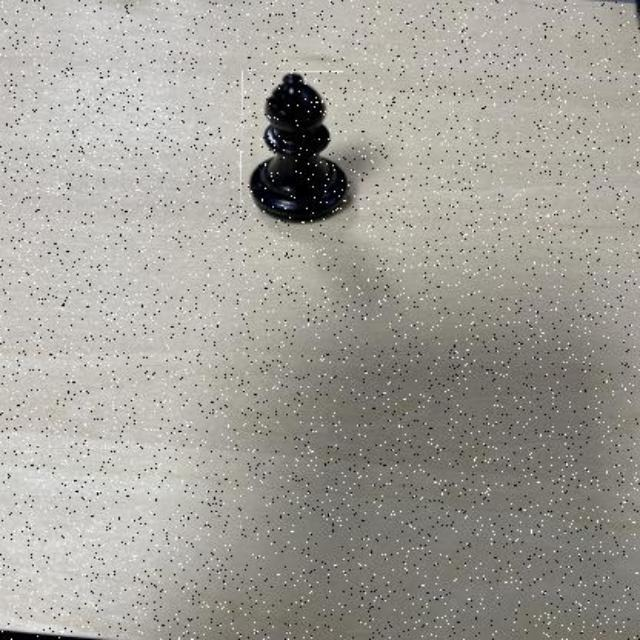black-bishop: (241, 71, 357, 226)
